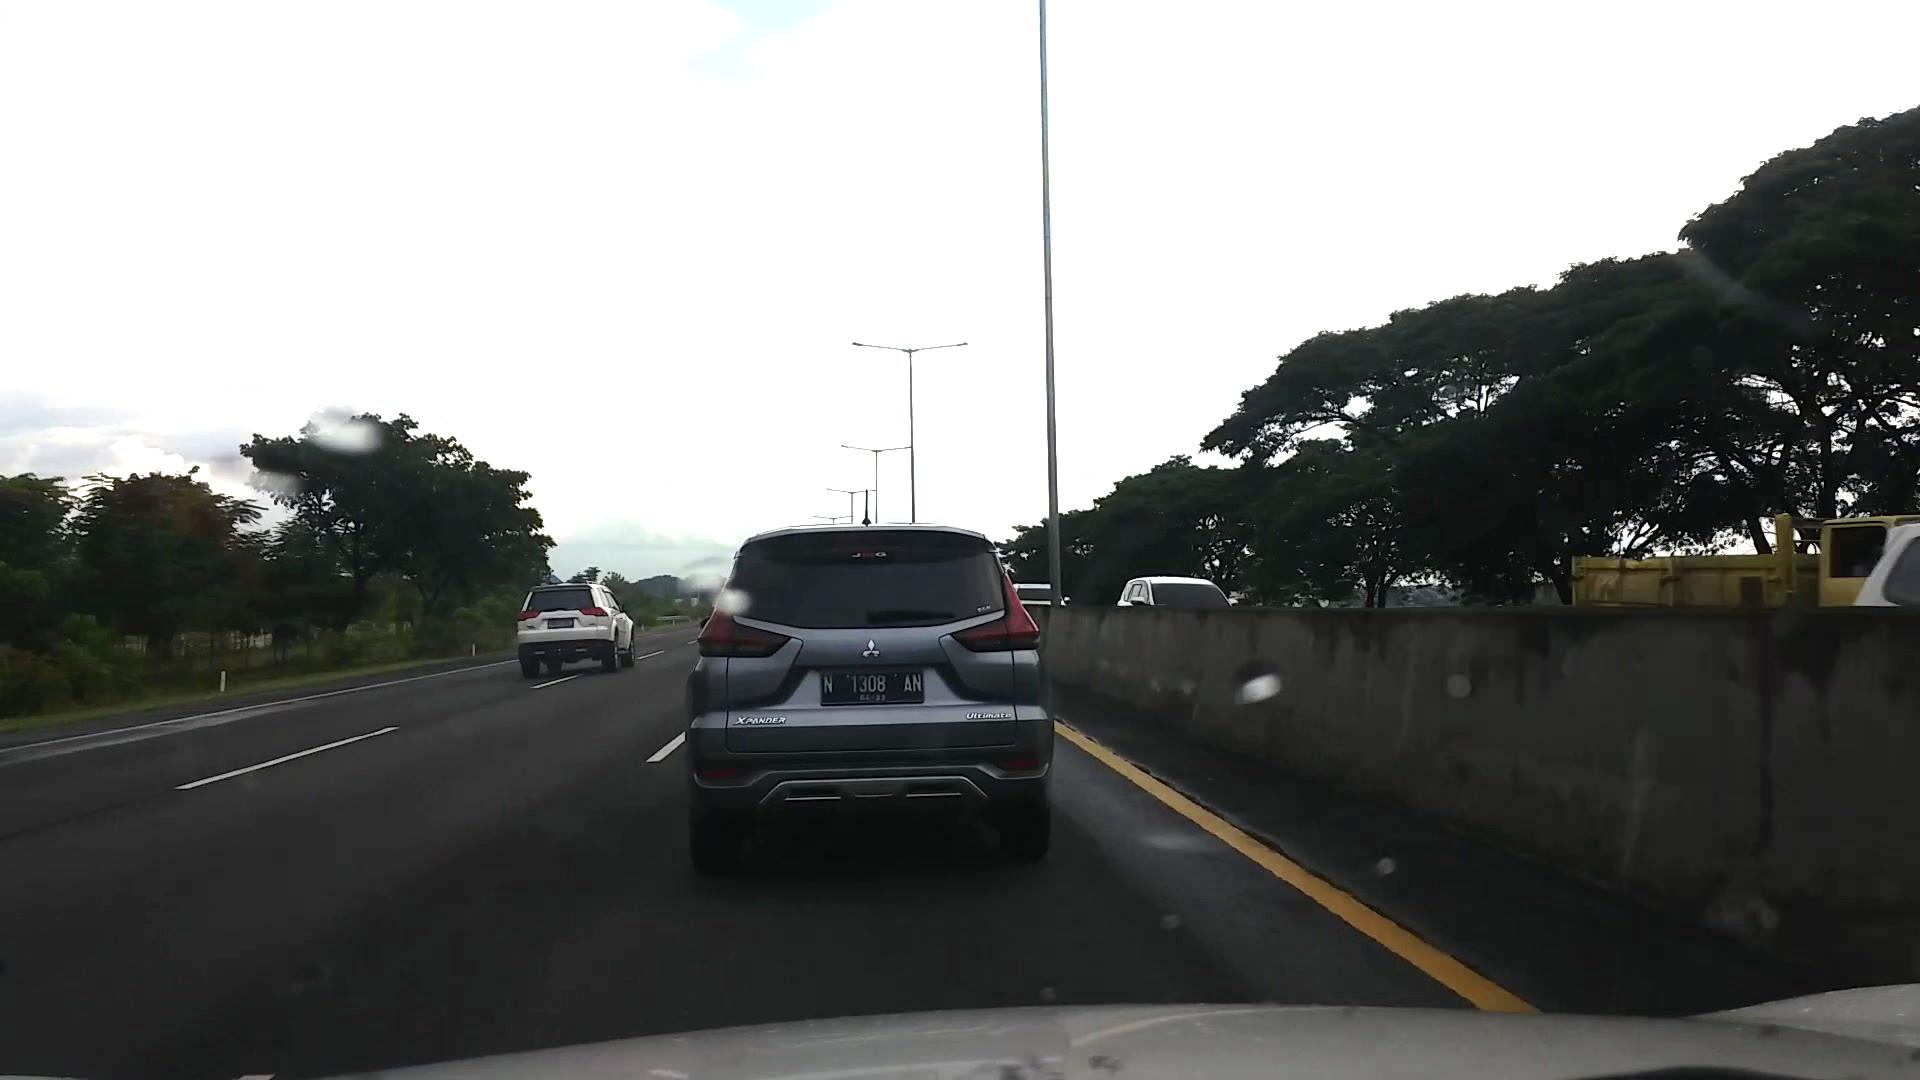plate_positive: (822, 669, 924, 705)
